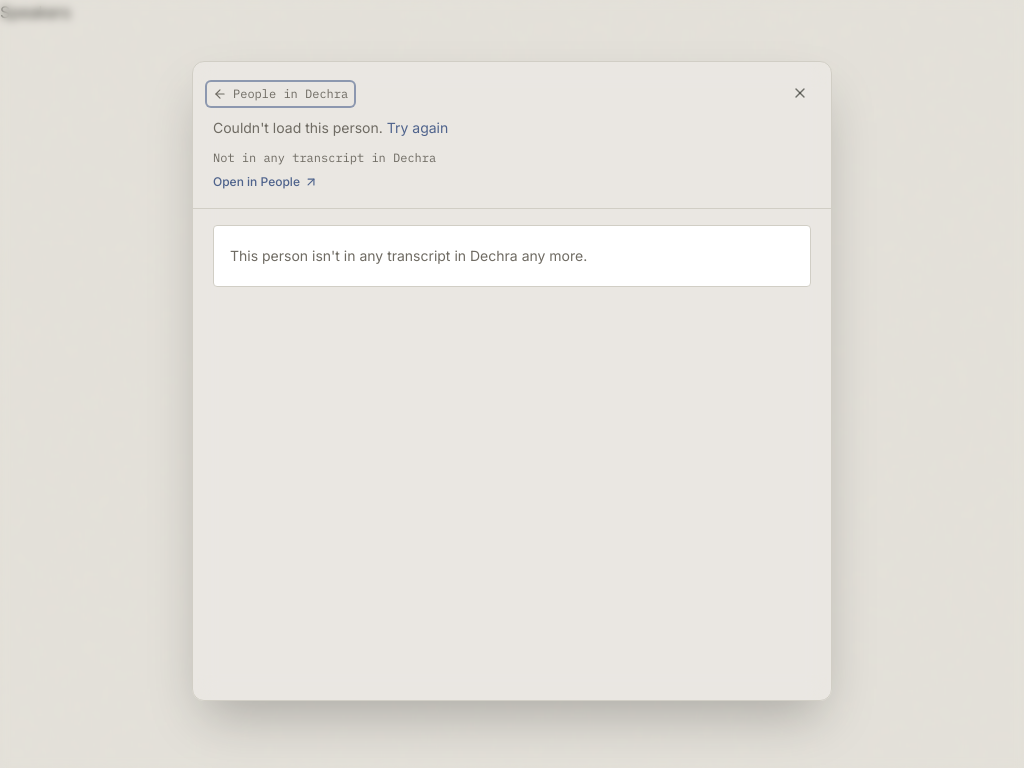
Scenario: ProjectPeopleDialog › held in the address and the history › a failed load keeps the person in the address and offers to try again
This screenshot has width=1024, height=768.
Click the button "Try again": {"x": 418, "y": 128} x1=387 y1=118 x2=448 y2=138
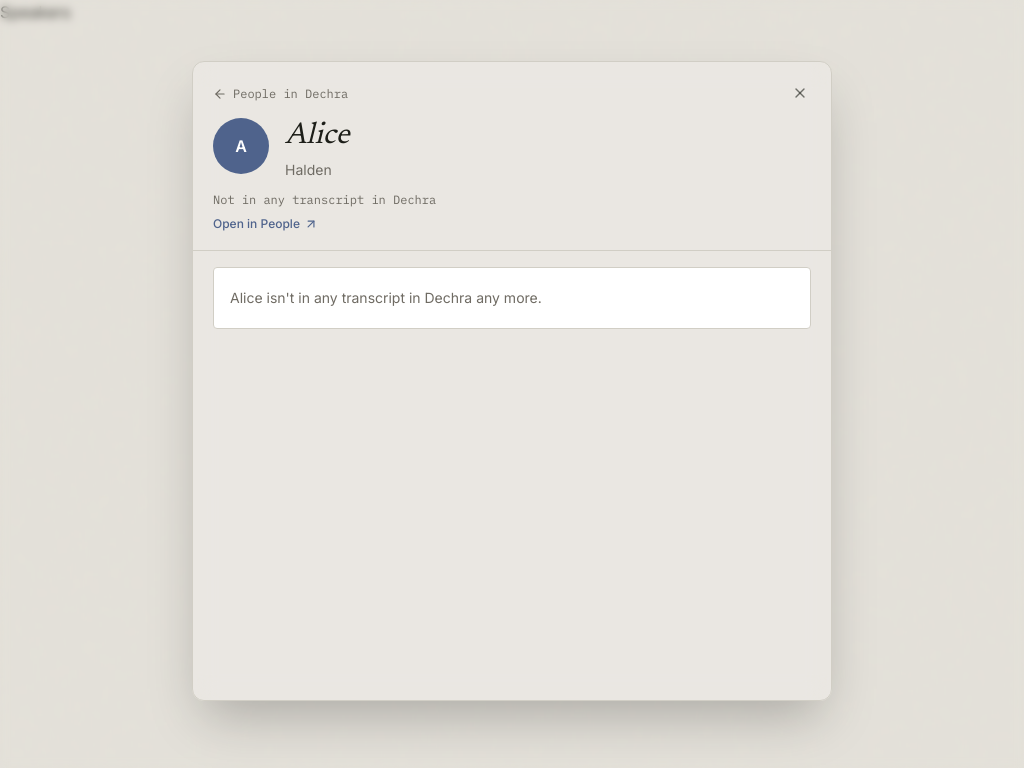
Expected: the dialog "Alice" is shown, x1=192 y1=61 x2=832 y2=701
